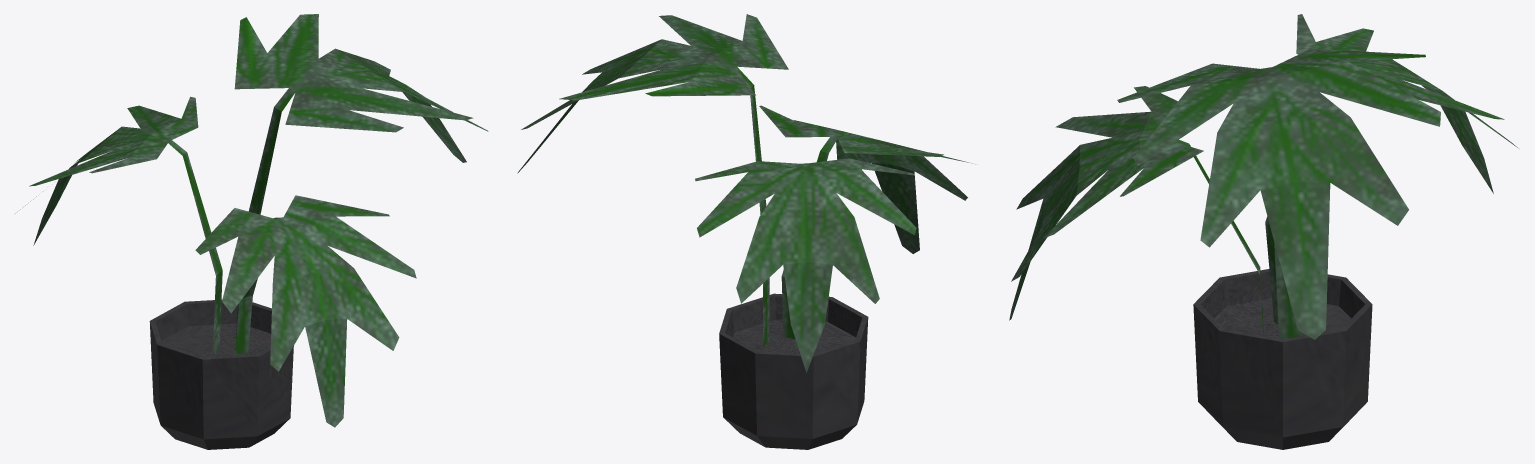
File: VASO.glb
3 renders of one model, left to right at view 1: azimuth 30°, elevation 25°; view 2: azimuth 150°, elevation 25°; view 3: azimuth 270°, elevation 25°, orthographic. The views are drawn at different scales.
Parts seen in each view (by area): view 1: PIANTA; view 2: PIANTA; view 3: PIANTA.
Part boxes in pixels (x1,y1,x2,y2): PIANTA: [15, 14, 488, 449]; PIANTA: [517, 14, 975, 449]; PIANTA: [1009, 14, 1518, 449].
Size of the model in its own units: 0.769 by 0.6256 by 0.6943.
2 materials, 2 textured.
